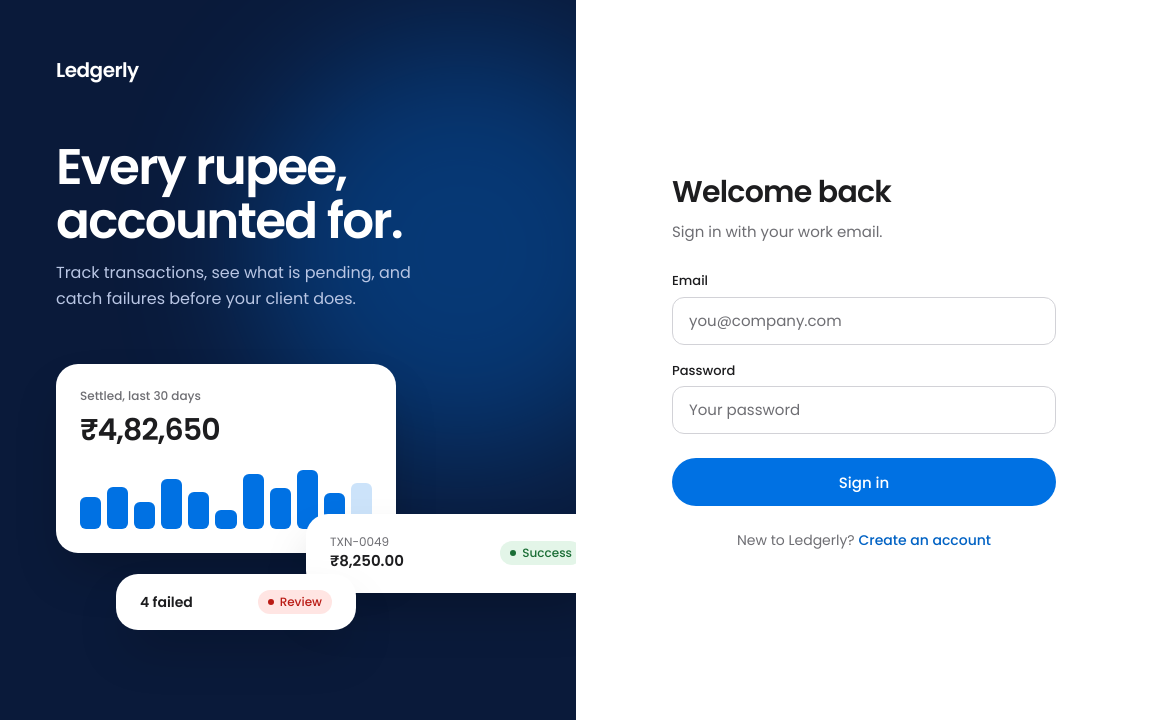
Test: Ledgerly UI (mock API) › shows validation errors on an empty sign-in
The width and height of the screenshot is (1152, 720).
What coordinates should you click on to do the following:
click the button "Sign in"
I would click on:
 (864, 482)
Its box is [672,458,1056,506].
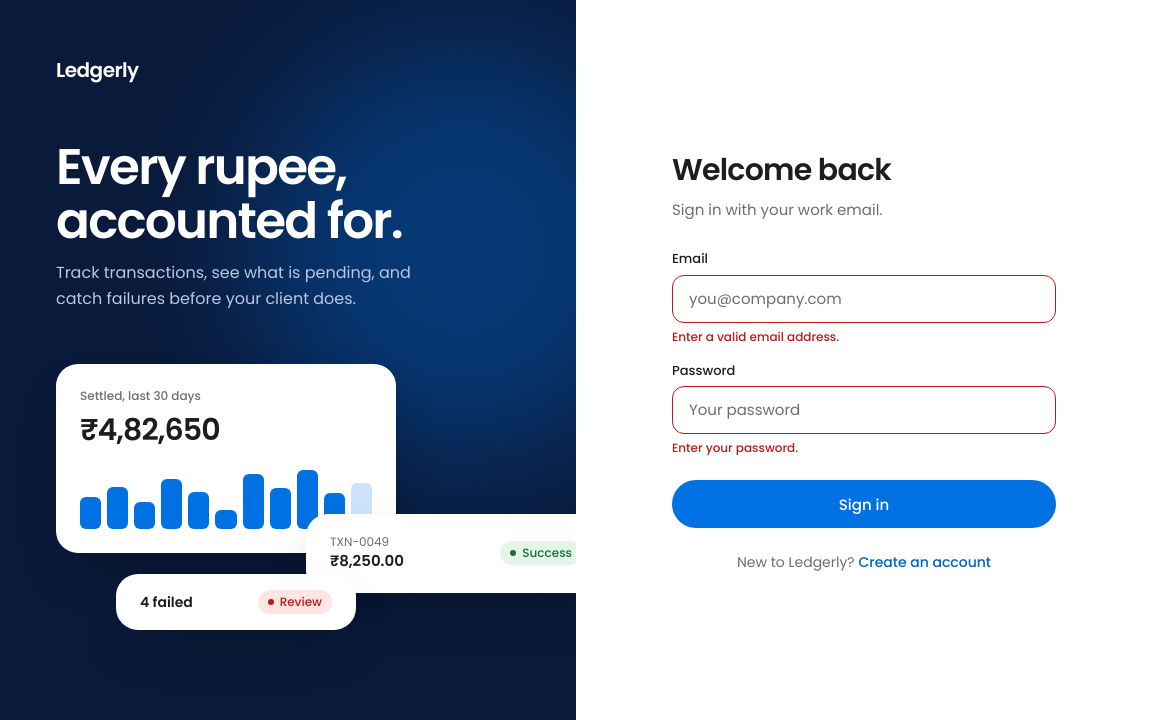
Result: the text "Enter a valid email address." is shown at [672,328,839,345]
Result: the text "Enter your password." is shown at [672,439,798,456]
